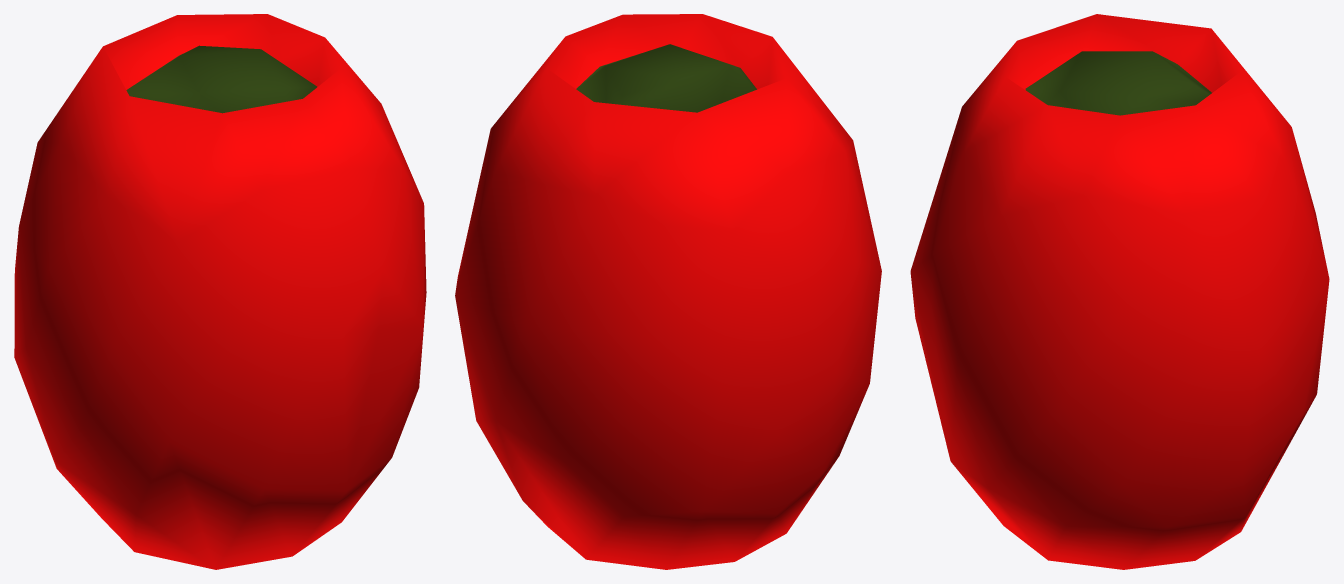
The model's file is Olive.obj.
3 views of the same model, side by side, from view 1: azimuth 30°, elevation 25°; view 2: azimuth 150°, elevation 25°; view 3: azimuth 270°, elevation 25° (orthographic).
Parts seen in each view (by area): view 1: Cube.002_Cube.001; view 2: Cube.002_Cube.001; view 3: Cube.002_Cube.001.
Part boxes in pixels (x1,y1,x2,y2): Cube.002_Cube.001: (14, 14, 426, 569); Cube.002_Cube.001: (455, 14, 881, 569); Cube.002_Cube.001: (910, 14, 1329, 569).
Bounding box in the file's own units: 3.63 × 4.42 × 3.67.
